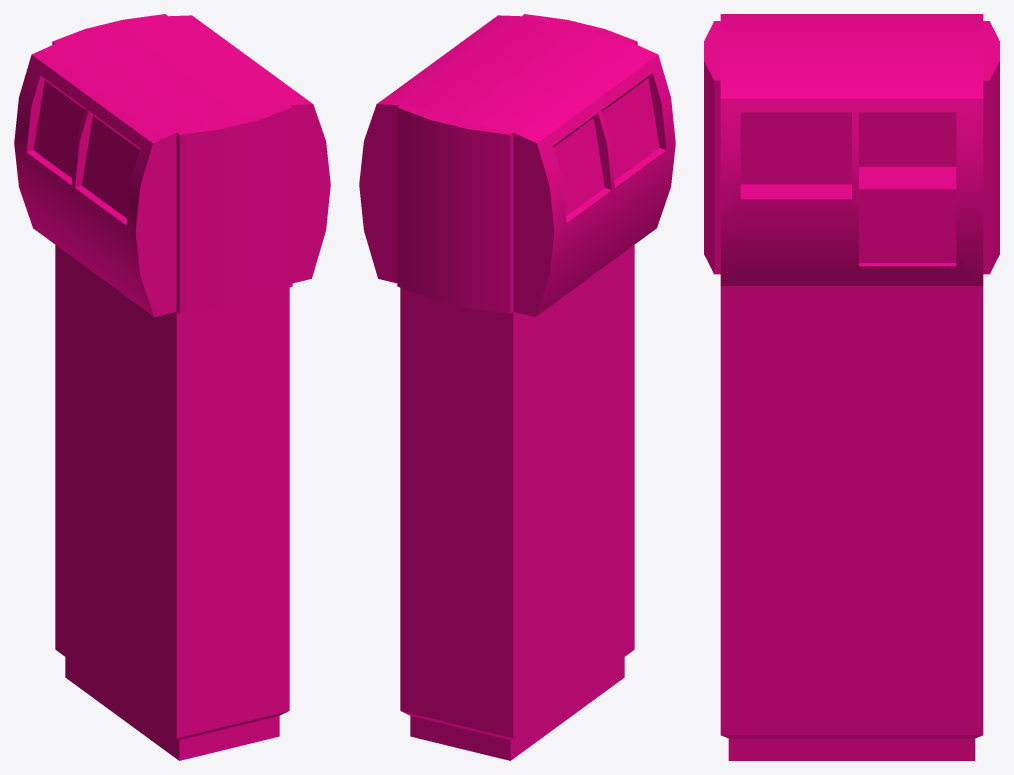
Rendered from parking_machine.FBX.
3 views of the same model, side by side, from view 1: azimuth 30°, elevation 25°; view 2: azimuth 150°, elevation 25°; view 3: azimuth 270°, elevation 25° (orthographic). The views are drawn at different scales.
Parts seen in each view (by area): view 1: parking_machine; view 2: parking_machine; view 3: parking_machine.
Boxes of the visible parts, x1,y1,x2,y2 form: parking_machine: (14, 14, 330, 760); parking_machine: (359, 14, 675, 760); parking_machine: (704, 14, 999, 760).
Bounding box in the file's own units: 0.4702 × 1.46 × 0.5708.
